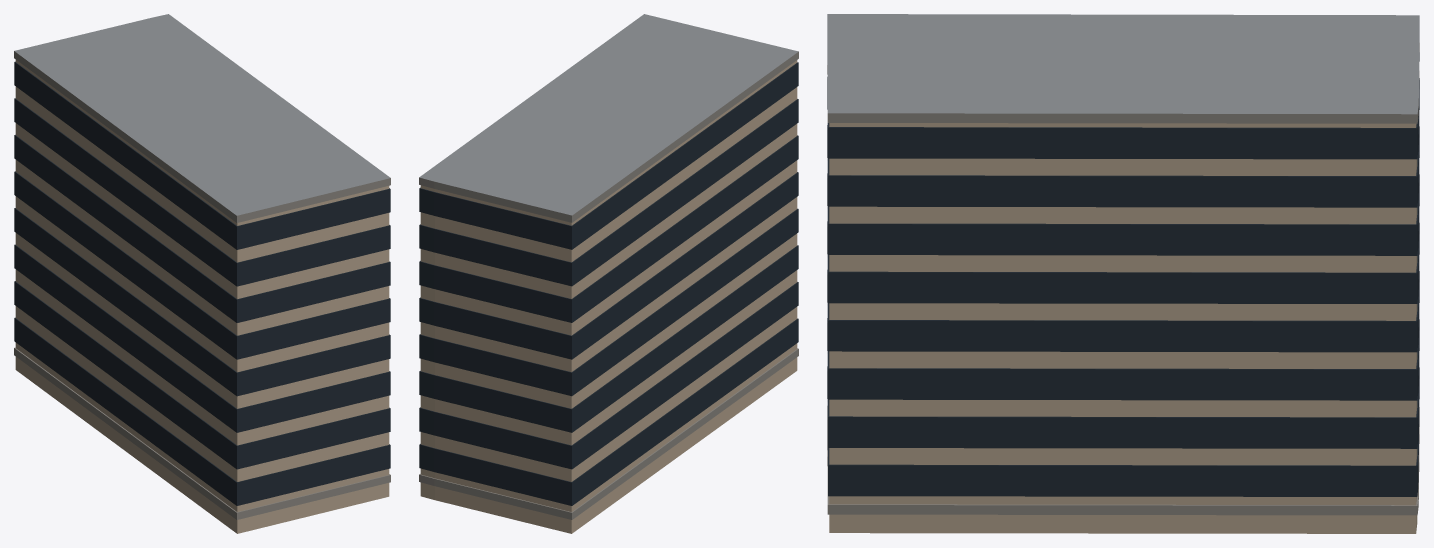
The model's file is bldg_w1025251117.glb.
3 renders of one model, left to right at view 1: azimuth 30°, elevation 25°; view 2: azimuth 150°, elevation 25°; view 3: azimuth 270°, elevation 25°, orthographic. The views are drawn at different scales.
Visible parts, largest first — view 1: Bldg_W1025251117; view 2: Bldg_W1025251117; view 3: Bldg_W1025251117.
Part boxes in pixels (<box>): Bldg_W1025251117: <box>14,14,390,533</box>; Bldg_W1025251117: <box>419,14,798,533</box>; Bldg_W1025251117: <box>827,14,1419,533</box>.
Size of the model in its own units: 22.38 by 43.8 by 55.95.
